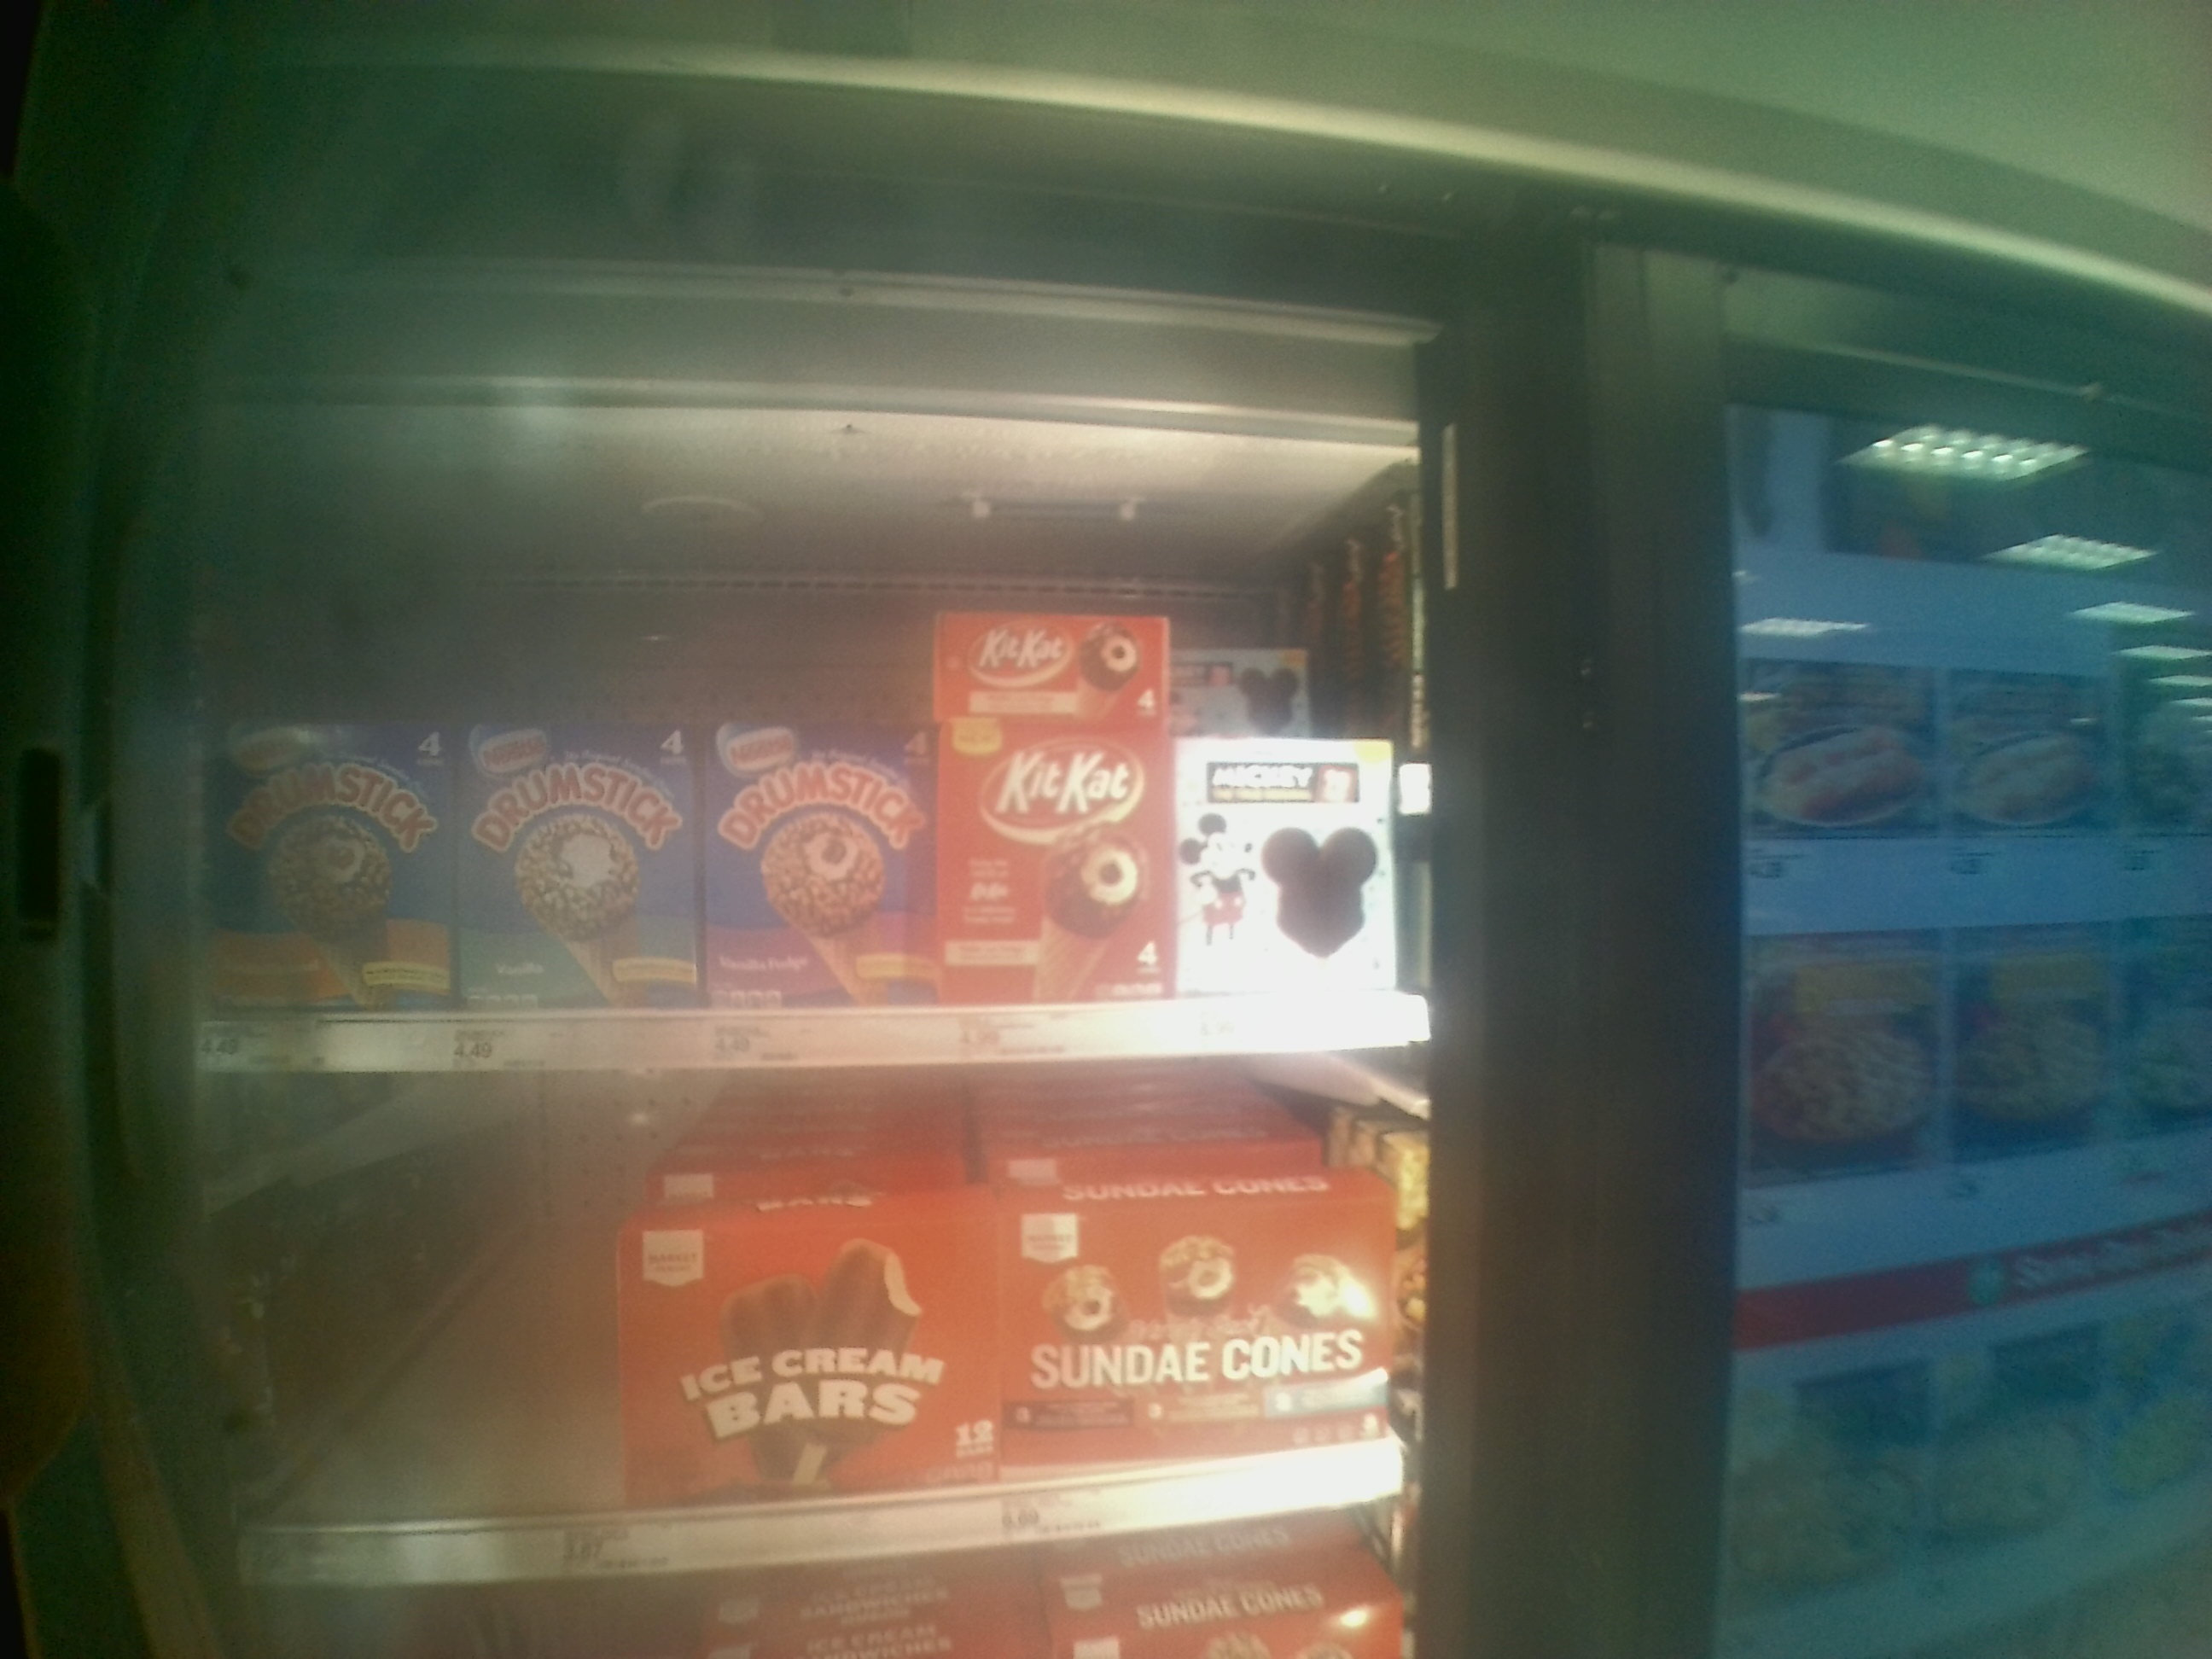shelf: (169, 586, 1437, 1075), (216, 1110, 1418, 1584)
